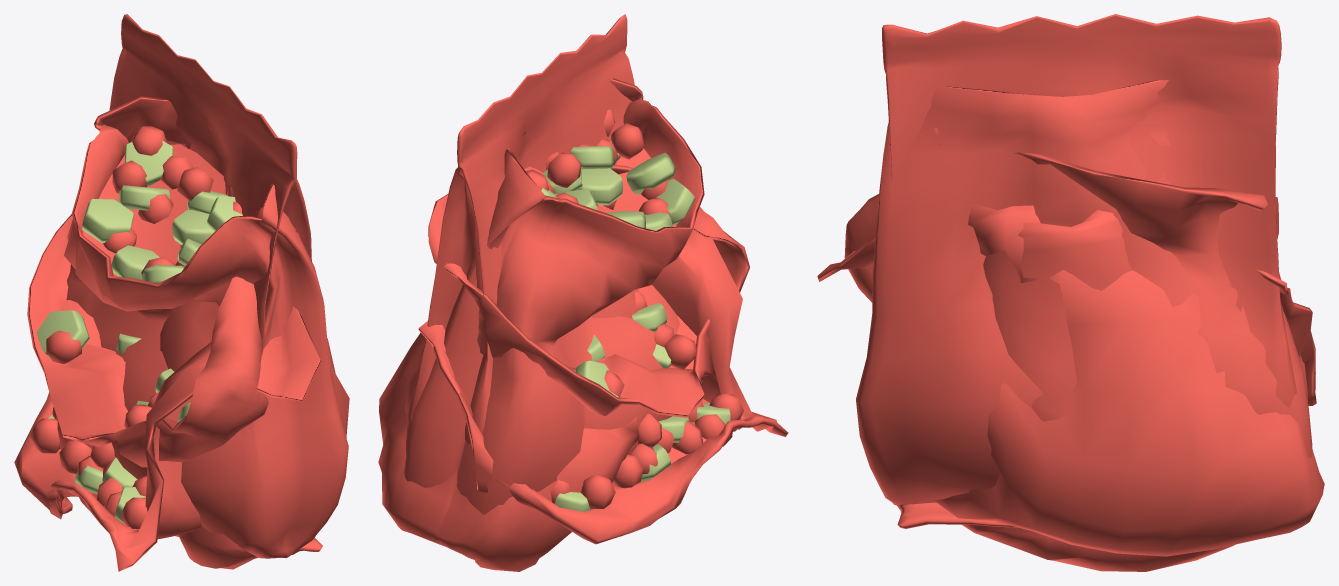
The model's file is bags_model.fbx.
3 views of the same model, side by side, from view 1: azimuth 30°, elevation 25°; view 2: azimuth 150°, elevation 25°; view 3: azimuth 270°, elevation 25° (orthographic). The views are drawn at different scales.
Parts seen in each view (by area): view 1: candyBagHalfFull1, candyBagHalfFull2, candyBagFull, candyBagHalfFull3, pepperGhouls1, yummyBeads1, yummyBeads3, pepperGhouls2, pepperGhouls3, yummyBeads2; view 2: candyBagHalfFull1, candyBagHalfFull2, candyBagFull, candyBagHalfFull3, pepperGhouls1, yummyBeads3, yummyBeads1, pepperGhouls3, pepperGhouls2, yummyBeads2; view 3: candyBagHalfFull2, candyBagHalfFull1, candyBagFull, candyBagHalfFull3.
Part boxes in pixels (bbox=[...]): candyBagHalfFull1: bbox=[64, 96, 349, 558]; candyBagHalfFull2: bbox=[27, 214, 322, 569]; candyBagFull: bbox=[109, 14, 311, 371]; candyBagHalfFull3: bbox=[14, 306, 321, 571]; pepperGhouls1: bbox=[82, 140, 242, 283]; yummyBeads1: bbox=[103, 126, 263, 275]; yummyBeads3: bbox=[30, 407, 147, 529]; pepperGhouls2: bbox=[36, 310, 190, 422]; pepperGhouls3: bbox=[48, 415, 145, 524]; yummyBeads2: bbox=[46, 330, 159, 428]; candyBagHalfFull1: bbox=[404, 78, 704, 514]; candyBagHalfFull2: bbox=[378, 165, 749, 571]; candyBagFull: bbox=[407, 14, 638, 443]; candyBagHalfFull3: bbox=[418, 230, 788, 544]; pepperGhouls1: bbox=[541, 141, 695, 230]; yummyBeads3: bbox=[550, 394, 743, 508]; yummyBeads1: bbox=[526, 109, 670, 216]; pepperGhouls3: bbox=[554, 403, 730, 512]; pepperGhouls2: bbox=[574, 303, 671, 397]; yummyBeads2: bbox=[604, 291, 696, 397]; candyBagHalfFull2: bbox=[844, 152, 1324, 571]; candyBagHalfFull1: bbox=[856, 80, 1312, 524]; candyBagFull: bbox=[882, 14, 1300, 408]; candyBagHalfFull3: bbox=[817, 209, 1316, 421].
Size of the model in its own units: 5.87 by 9.31 by 7.71.
